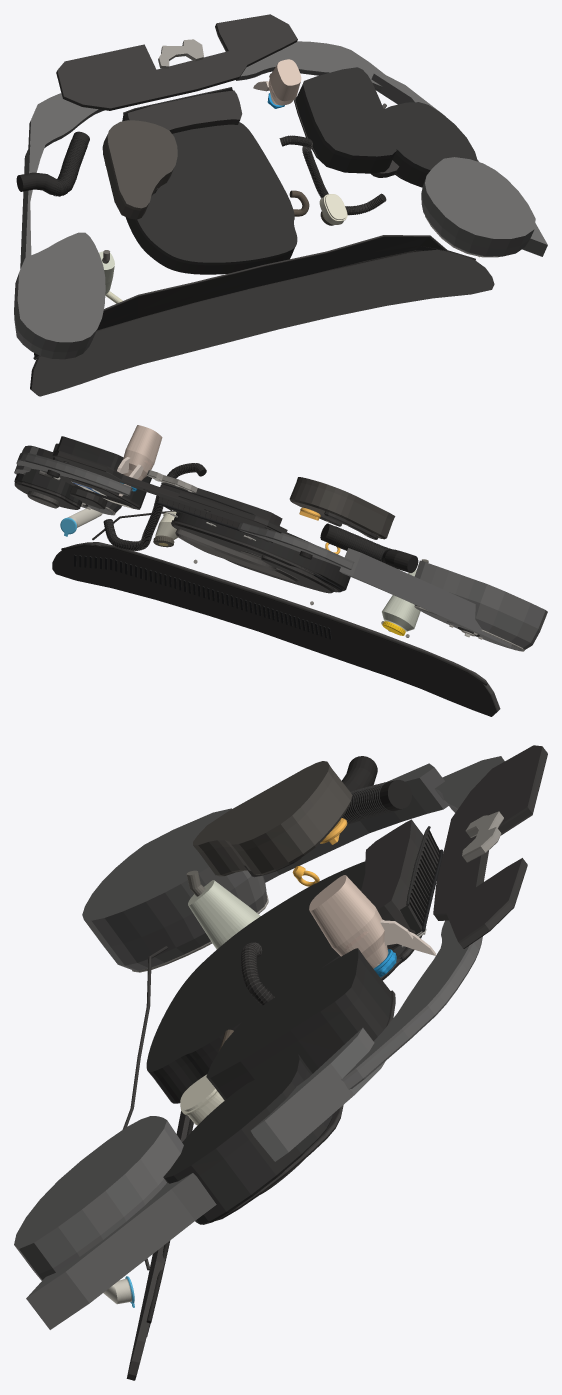
The model's file is ram700-service.glb.
3 renders of one model, top to bottom at view 1: azimuth 30°, elevation 25°; view 2: azimuth 150°, elevation 25°; view 3: azimuth 270°, elevation 25°, orthographic. The views are drawn at different scales.
Visible parts, largest first — view 1: cowl_panel, air_filter, radiator_support, right_strut_mount, left_strut_mount, battery, valve_cover, fuses, intake_snorkel, coolant, wiring_harness, hood_latch (+2 smaller); view 2: cowl_panel, right_strut_mount, air_filter, radiator_support, valve_cover, battery, fuses, intake_snorkel, coolant, wiring_harness, steering_fluid, washer (+4 smaller); view 3: left_strut_mount, air_filter, radiator_support, right_strut_mount, battery, fuses, valve_cover, coolant, cowl_panel, steering_fluid, intake_snorkel, brake_fluid (+2 smaller).
Boxes of the visible parts, bbox=[...] form: cowl_panel: bbox=[30, 235, 494, 396]; air_filter: bbox=[122, 87, 309, 274]; radiator_support: bbox=[28, 14, 384, 148]; right_strut_mount: bbox=[14, 137, 105, 359]; left_strut_mount: bbox=[371, 73, 547, 257]; battery: bbox=[294, 67, 396, 173]; valve_cover: bbox=[102, 120, 177, 219]; fuses: bbox=[384, 102, 477, 187]; intake_snorkel: bbox=[16, 131, 89, 196]; coolant: bbox=[253, 59, 301, 105]; wiring_harness: bbox=[279, 135, 386, 215]; hood_latch: bbox=[158, 39, 203, 68]; cowl_panel: bbox=[52, 510, 500, 716]; right_strut_mount: bbox=[339, 548, 547, 651]; air_filter: bbox=[157, 482, 350, 593]; radiator_support: bbox=[16, 450, 354, 569]; valve_cover: bbox=[289, 477, 395, 539]; battery: bbox=[53, 436, 151, 509]; fuses: bbox=[14, 445, 82, 509]; intake_snorkel: bbox=[320, 523, 418, 572]; coolant: bbox=[117, 425, 162, 496]; wiring_harness: bbox=[103, 463, 206, 550]; steering_fluid: bbox=[382, 559, 428, 631]; washer: bbox=[60, 508, 102, 536]; left_strut_mount: bbox=[14, 1028, 385, 1329]; air_filter: bbox=[146, 819, 443, 1103]; radiator_support: bbox=[341, 745, 547, 1089]; right_strut_mount: bbox=[82, 763, 448, 972]; battery: bbox=[206, 948, 395, 1100]; fuses: bbox=[163, 1054, 343, 1224]; valve_cover: bbox=[193, 761, 352, 877]; coolant: bbox=[309, 875, 435, 968]; cowl_panel: bbox=[122, 946, 193, 1380]; steering_fluid: bbox=[186, 870, 260, 949]; intake_snorkel: bbox=[342, 756, 411, 824]; brake_fluid: bbox=[180, 1074, 224, 1125].
Bounding box in the file's own units: 1.6 × 0.7396 × 0.8654.
